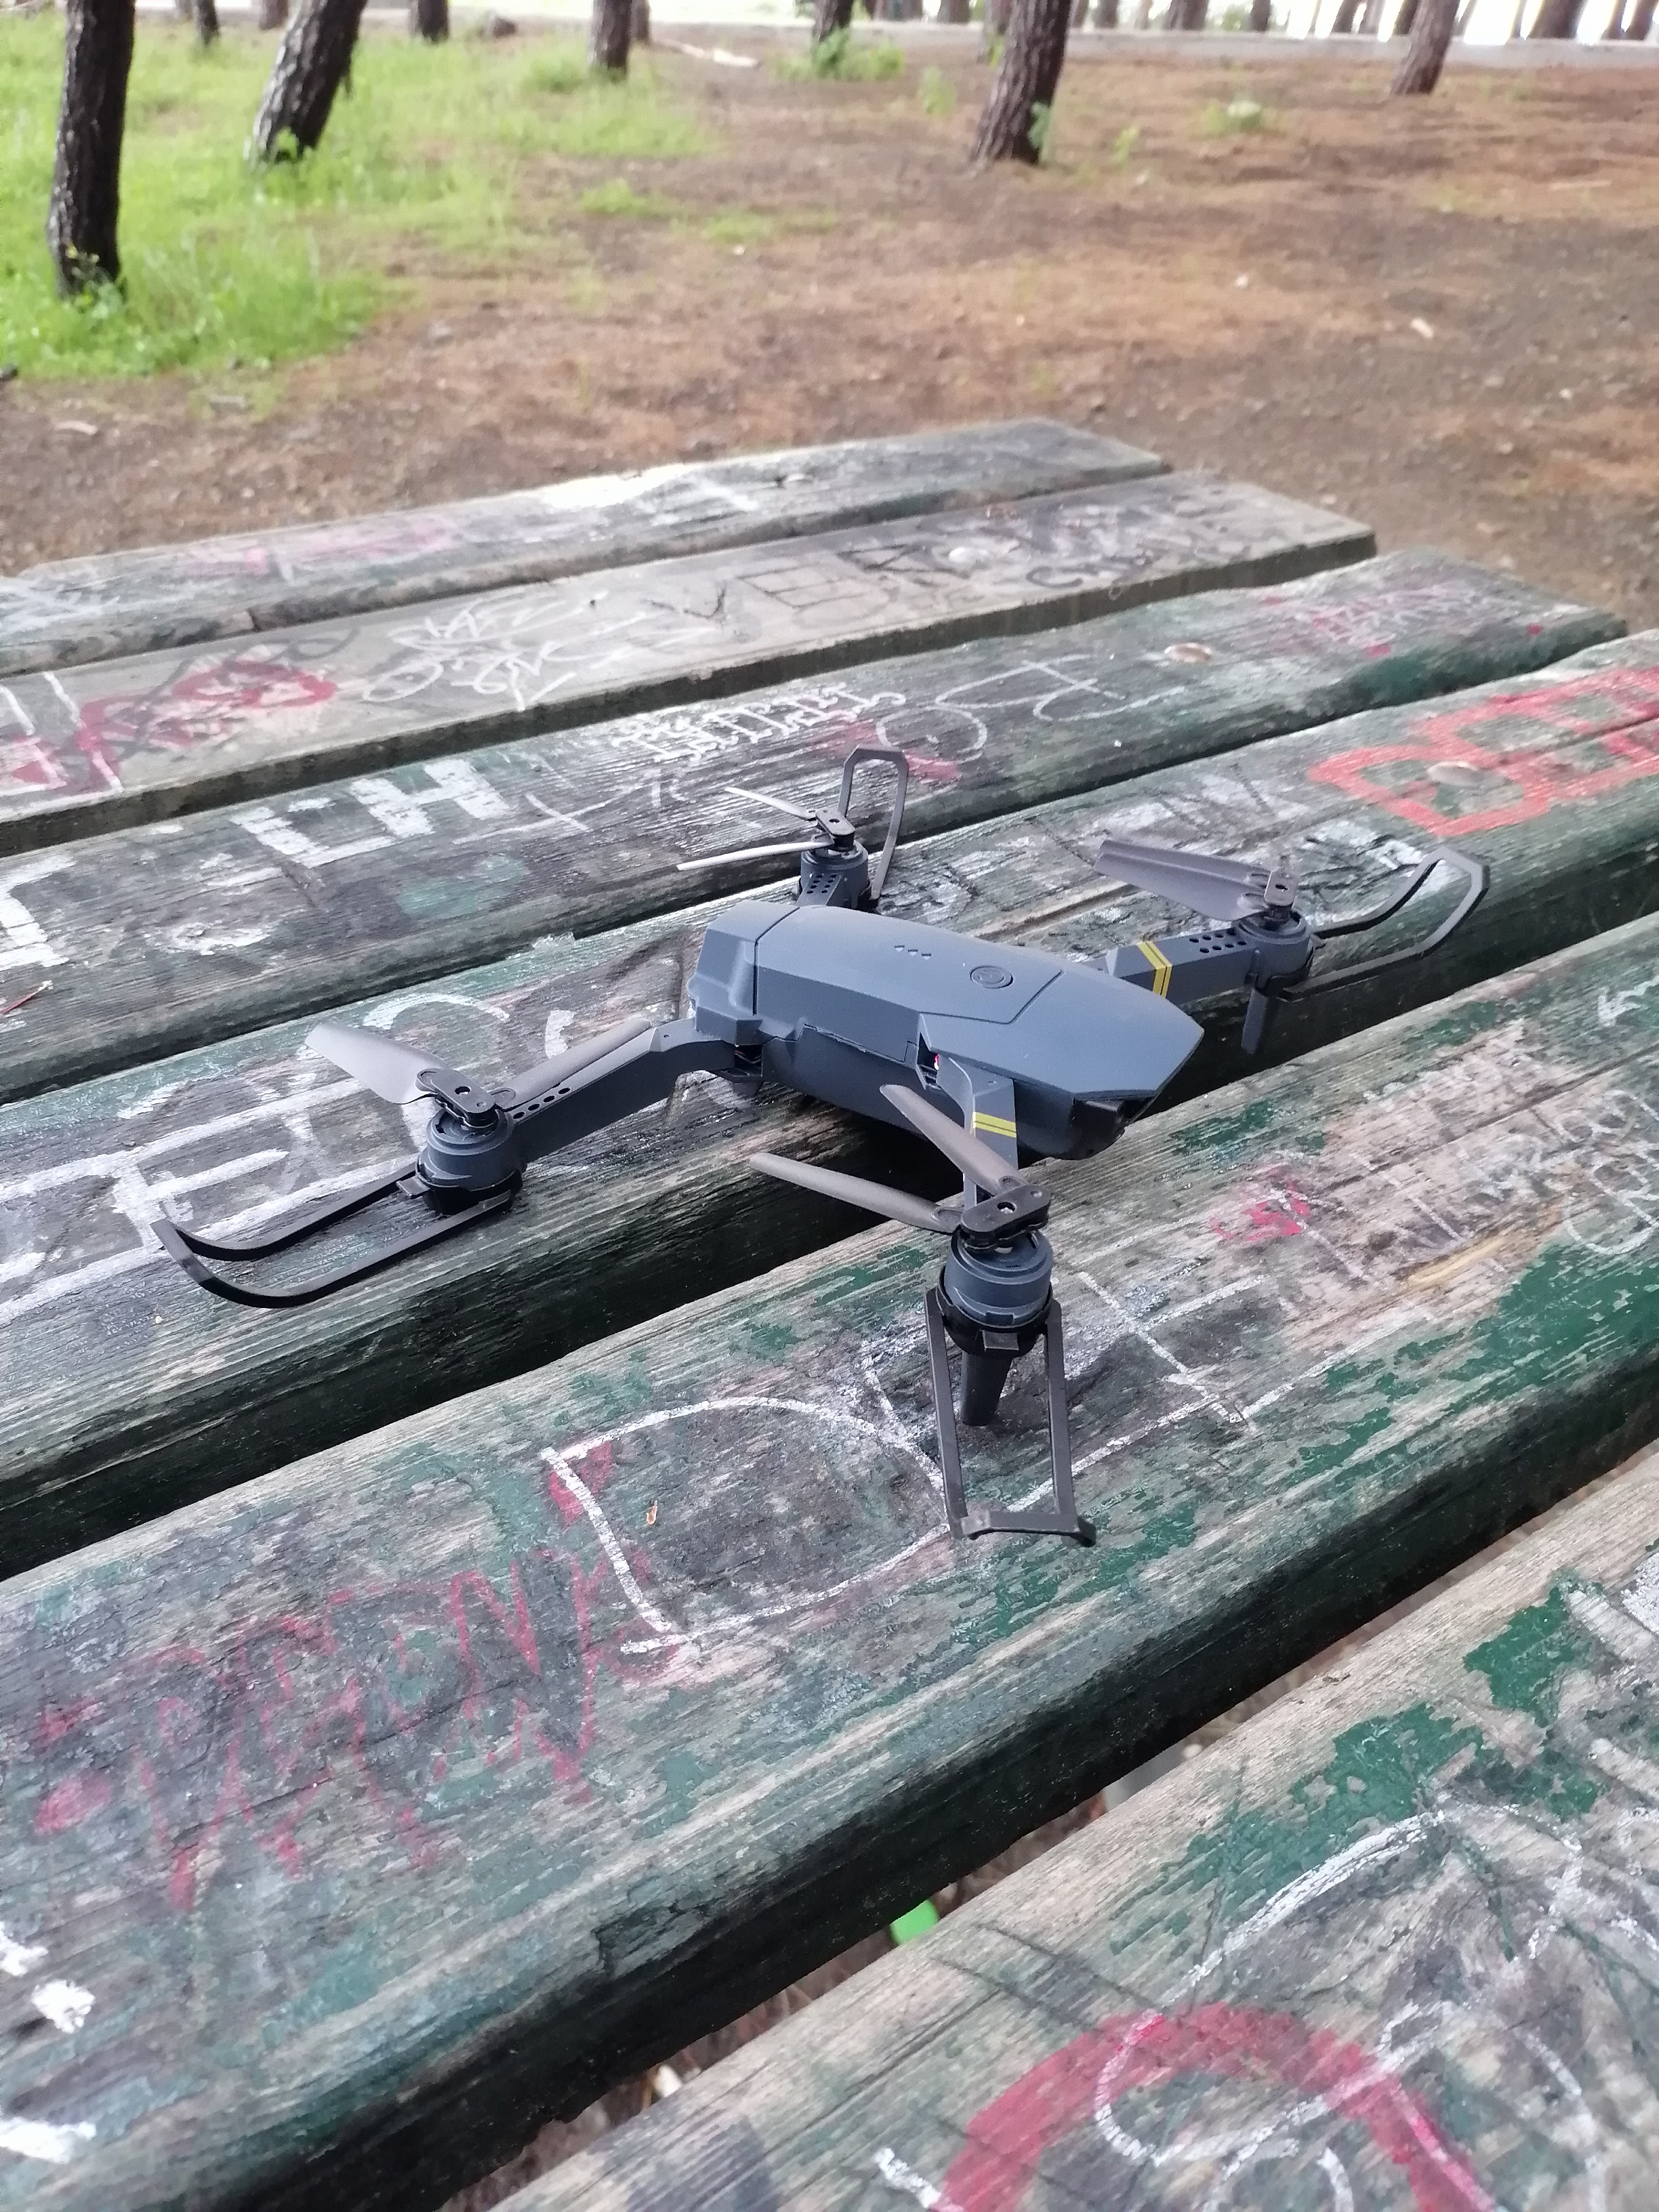drone: (186, 798, 1377, 1526)
